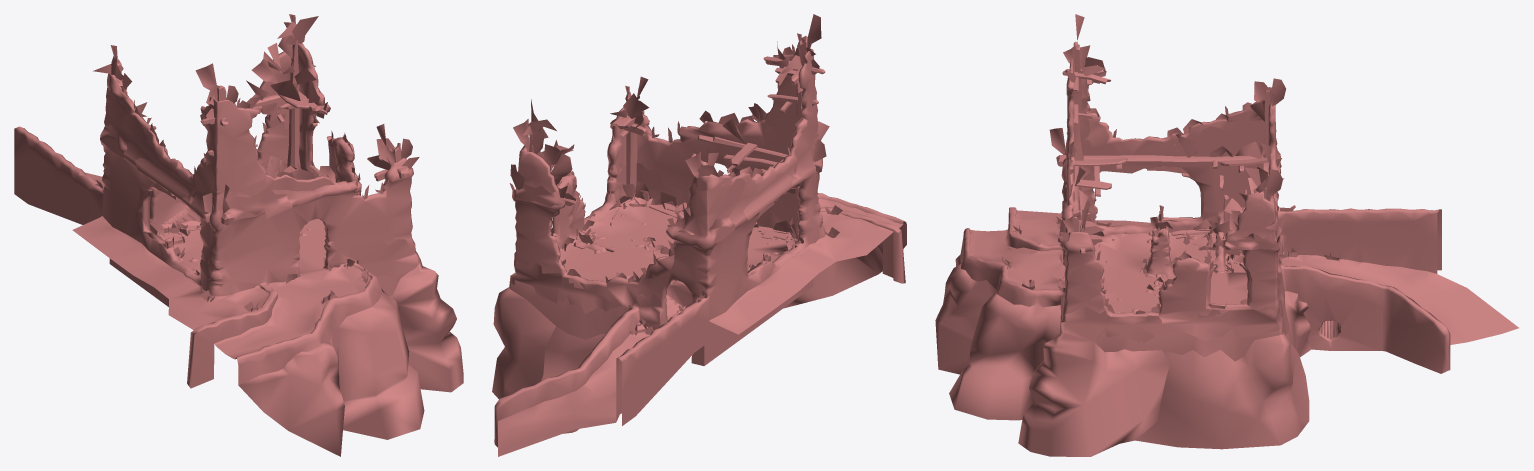
The model's file is forest_ruin.dae.
3 views of the same model, side by side, from view 1: azimuth 30°, elevation 25°; view 2: azimuth 150°, elevation 25°; view 3: azimuth 270°, elevation 25° (orthographic). The views are drawn at different scales.
Parts seen in each view (by area): view 1: forest_ruin, $occlusion; view 2: forest_ruin, $occlusion; view 3: forest_ruin.
Boxes of the visible parts, <box> form: forest_ruin: <box>14,14,463,456</box>; $occlusion: <box>109,157,388,306</box>; forest_ruin: <box>492,14,906,456</box>; $occlusion: <box>550,125,813,365</box>; forest_ruin: <box>935,14,1518,456</box>.
Size of what is drawn, in the model's own units: 18.01 by 33.07 by 20.81.
